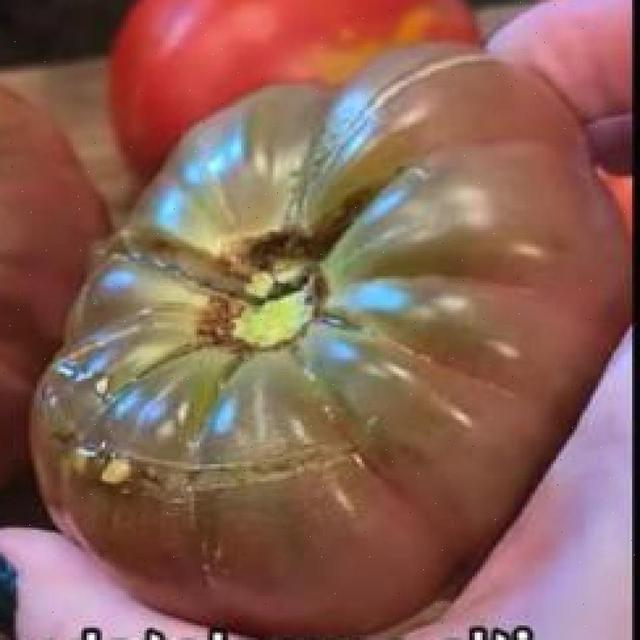Cracking Fruit: (25, 276, 249, 337)
